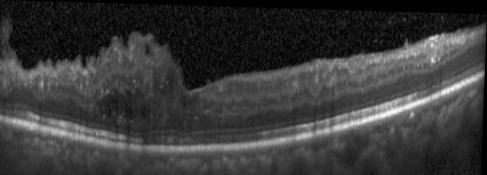intraretinal_cyst: (94, 85, 154, 119), (145, 43, 150, 53)
